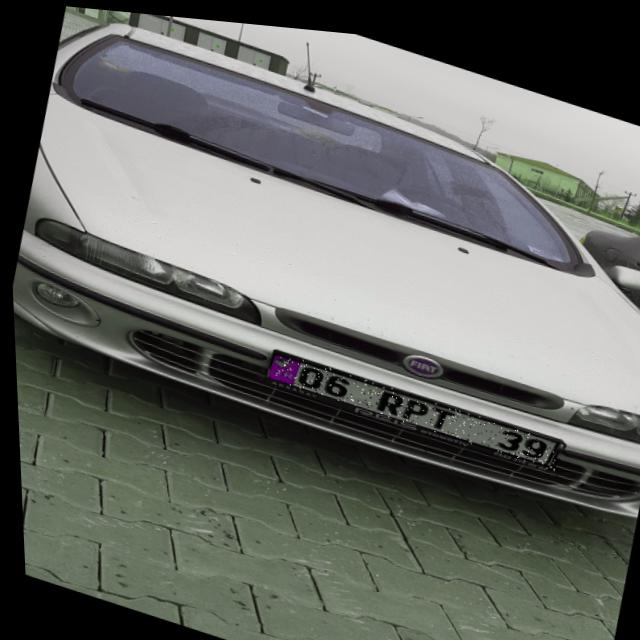license_plate: (264, 344, 560, 461)
